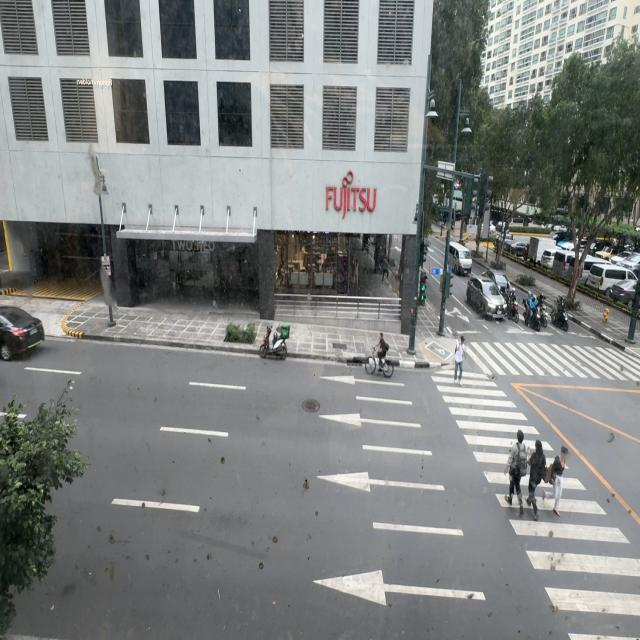crossing: (503, 429, 528, 513), (526, 440, 548, 519), (550, 446, 568, 517), (453, 336, 465, 384)
pedestrain: (524, 242, 530, 259)
